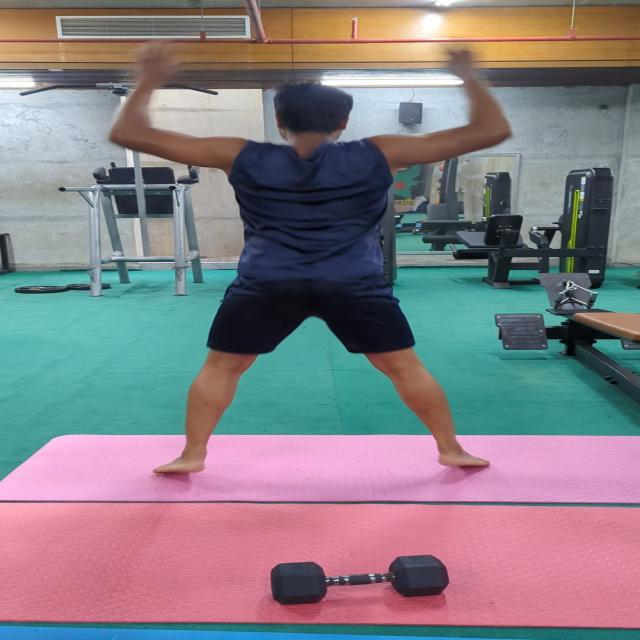Normal_JumpingJacks: (118, 28, 577, 481)
